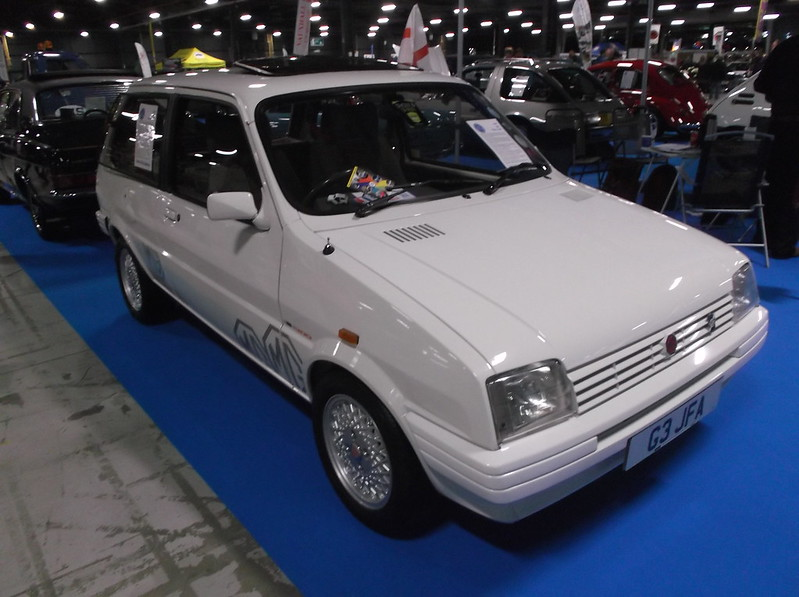number_plate: (624, 385, 745, 471)
